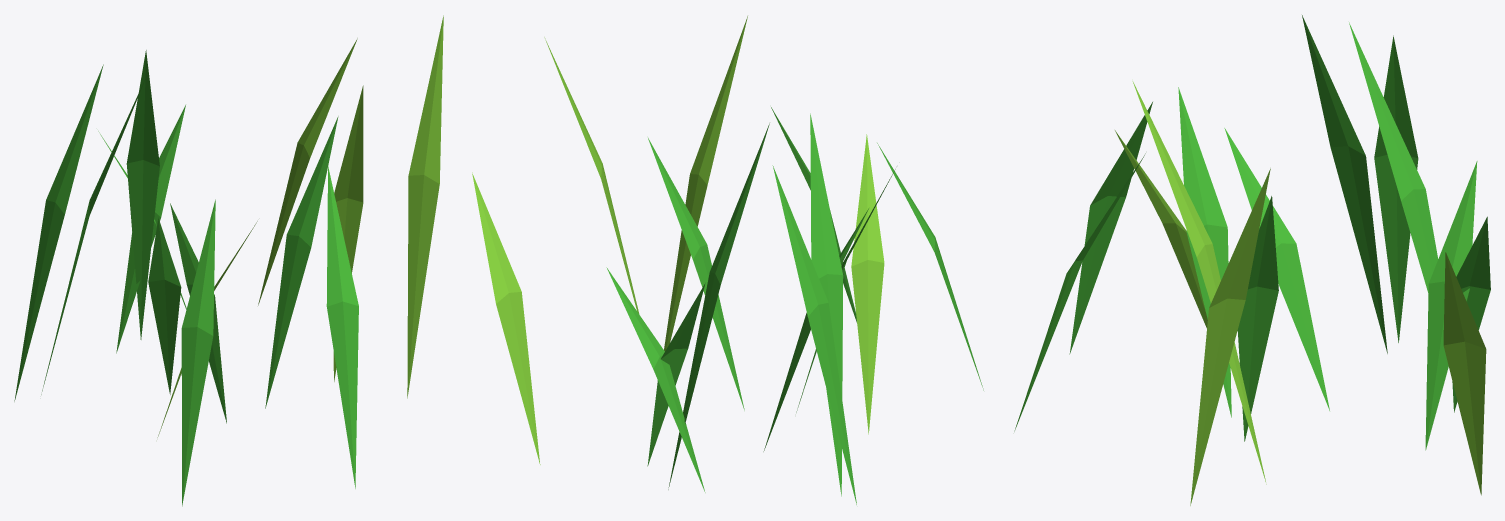
The model's file is grass_tall_a.fbx.
3 renders of one model, left to right at view 1: azimuth 30°, elevation 25°; view 2: azimuth 150°, elevation 25°; view 3: azimuth 270°, elevation 25°, orthographic. The views are drawn at different scales.
Parts seen in each view (by area): view 1: grass_tall_a; view 2: grass_tall_a; view 3: grass_tall_a.
Boxes of the visible parts, box(x1,y1,x2,y2) form: grass_tall_a: box(14, 15, 443, 506); grass_tall_a: box(472, 16, 983, 504); grass_tall_a: box(1014, 15, 1490, 505).
Size of the model in its own units: 1 by 0.9 by 1.
